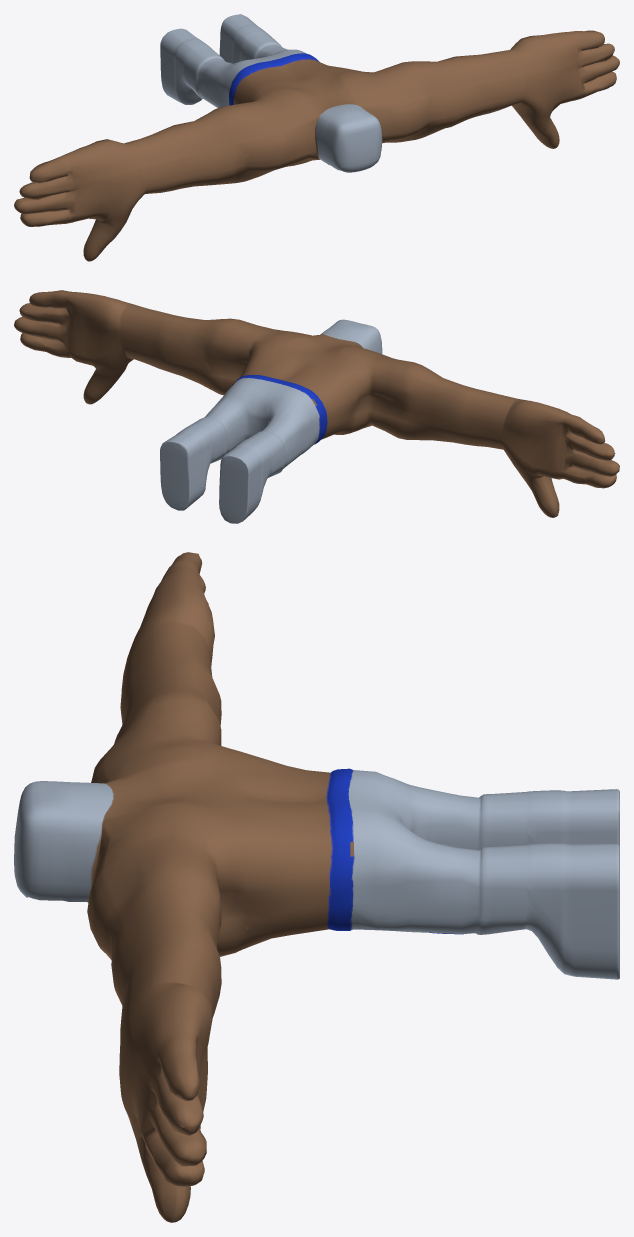
Rendered from TestModel.fbx.
3 views of the same model, one above another, from view 1: azimuth 30°, elevation 25°; view 2: azimuth 150°, elevation 25°; view 3: azimuth 270°, elevation 25° (orthographic). The views are drawn at different scales.
Visible parts, largest first — view 1: polySurface16; view 2: polySurface16; view 3: polySurface16.
Boxes of the visible parts, bbox=[...] form: polySurface16: bbox=[14, 14, 619, 261]; polySurface16: bbox=[14, 290, 619, 523]; polySurface16: bbox=[14, 552, 619, 1222].
Size of the model in its own units: 14.96 by 2.81 by 6.83.
